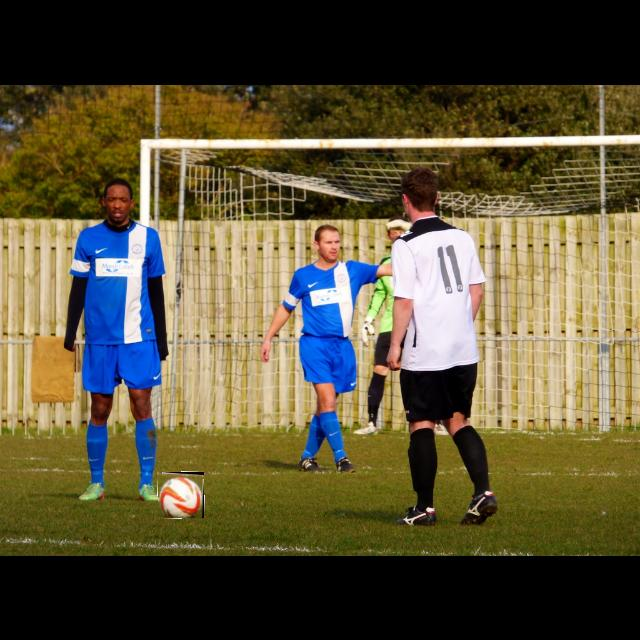Football: (158, 472, 204, 518)
